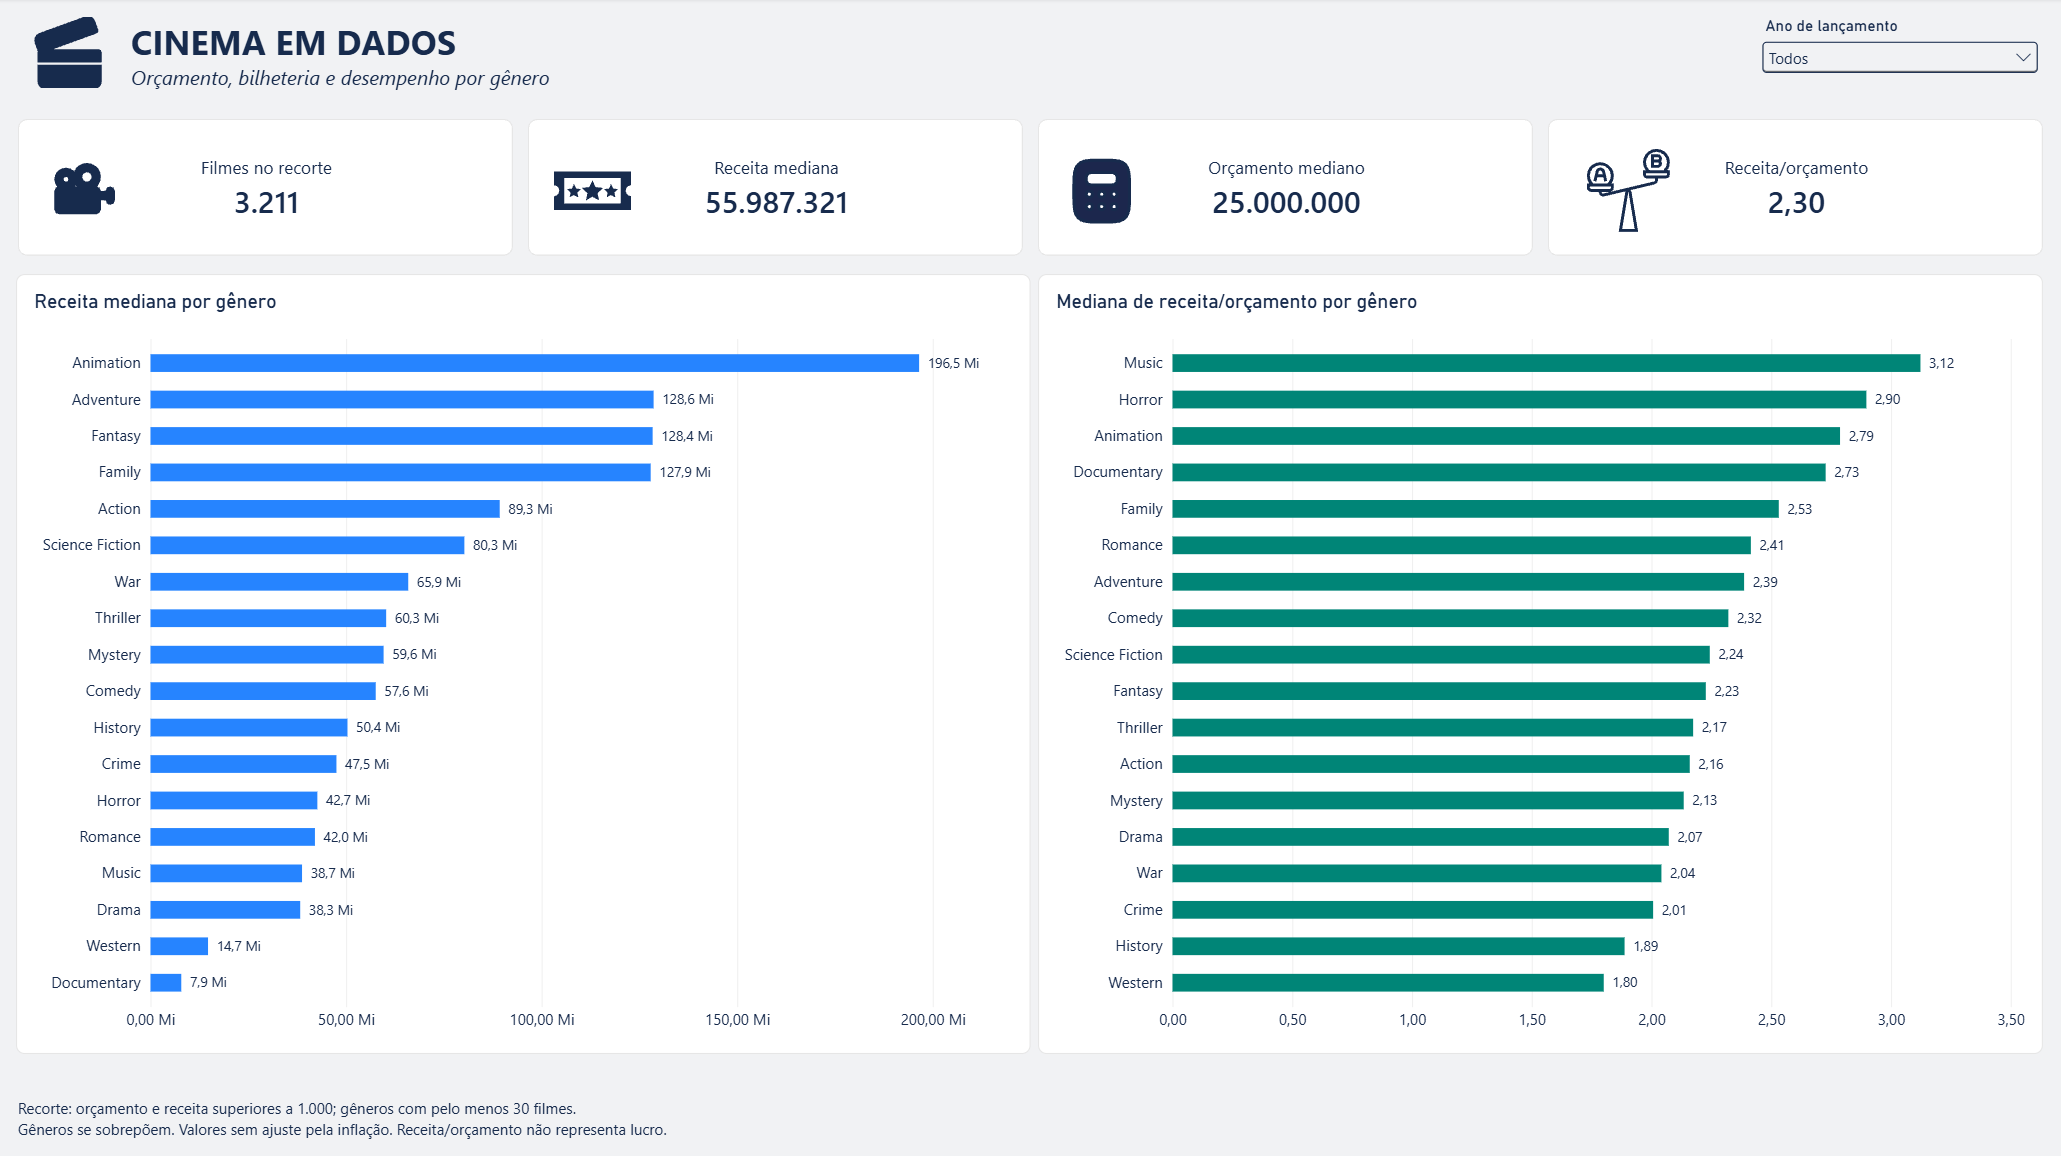

The dashboard page shown, as its layout file describes it:
{"tool":"powerbi","page":{"name":"Desempenho financeiro","canvas":[1920,1080],"ordinal":0},"visuals":[{"type":"clusteredBarChart","title":"Receita mediana por gênero","fields":{"Category":["generos_tmdb.genero"],"Y":["filmes_tmdb.Receita Mediana por Genero"]},"box":[16.7,256.5,943.4,725],"z":0},{"type":"cardVisual","fields":{"Data":["filmes_tmdb.Orcamento Mediano Cartao"]},"box":[966.6,112.5,460.1,127.3],"z":1000},{"type":"cardVisual","fields":{"Data":["filmes_tmdb.Filmes no Recorte Cartao"]},"box":[18.6,112.5,460.1,127.3],"z":2000},{"type":"cardVisual","fields":{"Data":["filmes_tmdb.Receita Mediana Cartao"]},"box":[492.6,112.5,460.1,127.3],"z":3000},{"type":"cardVisual","fields":{"Data":["filmes_tmdb.Multiplo Mediano Cartao"]},"box":[1440.6,112.5,460.1,127.3],"z":4000},{"type":"clusteredBarChart","title":"Mediana de receita/orçamento por gênero","fields":{"Category":["generos_tmdb.genero"],"Y":["filmes_tmdb.Multiplo Mediano por Genero"]},"box":[966.6,256.5,934.1,725],"z":5000},{"type":"textbox","box":[18.6,1022.4,1882.1,46.5],"z":6000},{"type":"slicer","fields":{"Values":["filmes_tmdb.ano_lancamento"]},"box":[1634.9,17.7,265.8,67.8],"z":7000},{"type":"textbox","box":[123.6,17.7,1463.9,92.9],"z":8000},{"type":"image","box":[18.6,17.7,95.7,66],"z":9000},{"type":"image","box":[506.5,143.4,92,71.6],"z":10000},{"type":"image","box":[41.8,146.6,72.5,65.1],"z":11000},{"type":"image","box":[983.3,144.8,84.6,68.8],"z":12000},{"type":"image","box":[1463.9,140.6,103.2,77.1],"z":13000}]}

Visuals, with their boxes in screenshot pixels (x1, y1, x2, y2), scaled from the page's 1920x1080 canvas onto the 2061x1156 screenshot:
"Receita mediana por gênero" clusteredBarChart: [18, 275, 1031, 1051]
cardVisual - filmes_tmdb.Orcamento Mediano Cartao: [1038, 120, 1531, 257]
cardVisual - filmes_tmdb.Filmes no Recorte Cartao: [20, 120, 514, 257]
cardVisual - filmes_tmdb.Receita Mediana Cartao: [529, 120, 1023, 257]
cardVisual - filmes_tmdb.Multiplo Mediano Cartao: [1546, 120, 2040, 257]
"Mediana de receita/orçamento por gênero" clusteredBarChart: [1038, 275, 2040, 1051]
textbox: [20, 1094, 2040, 1144]
slicer - filmes_tmdb.ano_lancamento: [1755, 19, 2040, 92]
textbox: [133, 19, 1704, 118]
image: [20, 19, 123, 90]
image: [544, 153, 642, 230]
image: [45, 157, 123, 227]
image: [1056, 155, 1146, 229]
image: [1571, 150, 1682, 233]
